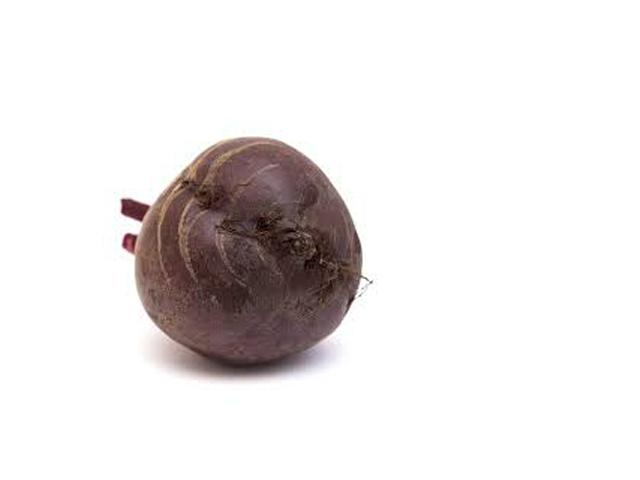beet: (123, 135, 363, 369)
